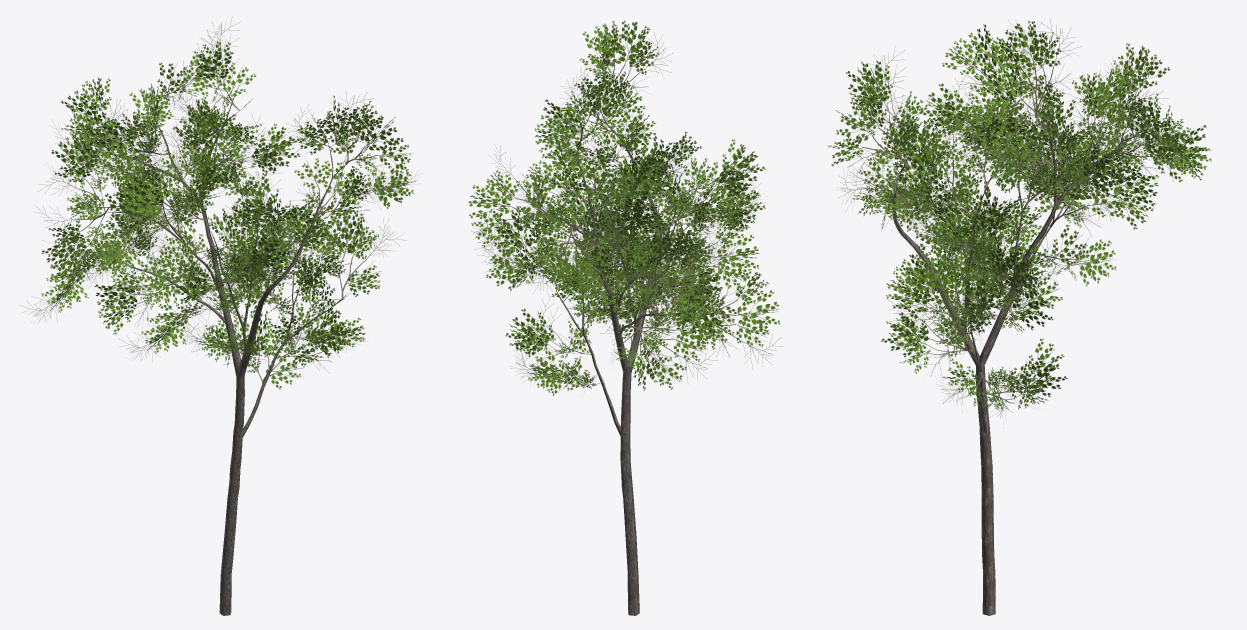
File: poplar1.glb
The picture shows the model from 3 angles, left to right: view 1: azimuth 30°, elevation 25°; view 2: azimuth 150°, elevation 25°; view 3: azimuth 270°, elevation 25°; orthographic projection. The views are drawn at different scales.
Visible parts, largest first — view 1: foliage.013, structure.013; view 2: foliage.013, structure.013; view 3: foliage.013, structure.013.
Part boxes in pixels (x1=…): foliage.013: x1=19, y1=17, x2=416, y2=389; structure.013: x1=42, y1=84, x2=367, y2=615; foliage.013: x1=468, y1=21, x2=782, y2=395; structure.013: x1=548, y1=98, x2=721, y2=615; foliage.013: x1=827, y1=19, x2=1211, y2=423; structure.013: x1=892, y1=103, x2=1161, y2=615.
Size of the model in its own units: 8.52 by 13.13 by 8.12.
2 materials, 2 textured.
